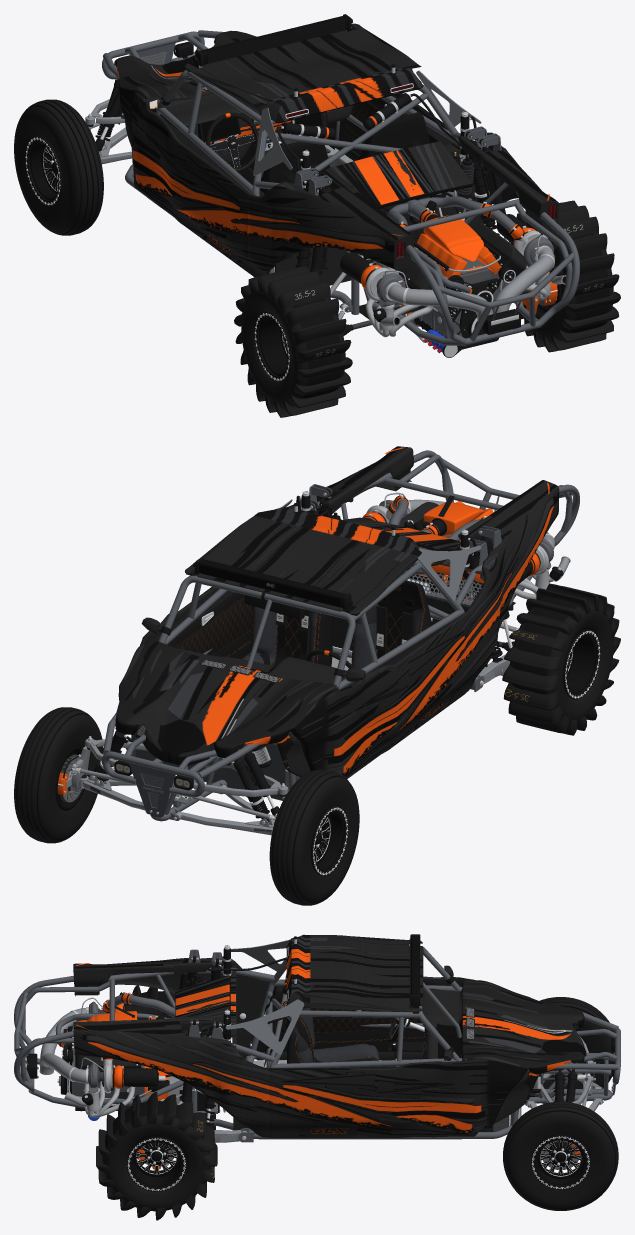
Rendered from sandcar.glb.
3 views of the same model, one above another, from view 1: azimuth 30°, elevation 25°; view 2: azimuth 150°, elevation 25°; view 3: azimuth 270°, elevation 25° (orthographic). The views are drawn at different scales.
Visible parts, largest first — view 1: Chassis_Mesh, Wheel_RL_Mesh, Wheel_FL_Mesh, Wheel_RR_Mesh, LightBar, SteeringWheel_Mesh, Shock_RR_2_Body; view 2: Chassis_Mesh, Wheel_RL_Mesh, Wheel_FL_Mesh, Wheel_FR_Mesh, LightBar, Link_FL_Lower_0, Upright_FR, Link_FR_Lower_0, Link_FL_Upper_0; view 3: Chassis_Mesh, Wheel_RR_Mesh, Wheel_FR_Mesh, Wheel_FL_Mesh, LightBar, Wheel_RL_Mesh.
Boxes of the visible parts, left/top/right/bottom form: Chassis_Mesh: left=102, top=18, right=579, bottom=357; Wheel_RL_Mesh: left=234, top=266, right=352, bottom=417; Wheel_FL_Mesh: left=14, top=99, right=103, bottom=235; Wheel_RR_Mesh: left=504, top=200, right=620, bottom=352; LightBar: left=195, top=14, right=351, bottom=66; SteeringWheel_Mesh: left=206, top=112, right=258, bottom=172; Shock_RR_2_Body: left=476, top=138, right=505, bottom=226; Chassis_Mesh: left=102, top=446, right=579, bottom=821; Wheel_RL_Mesh: left=502, top=583, right=620, bottom=735; Wheel_FL_Mesh: left=269, top=769, right=359, bottom=905; Wheel_FR_Mesh: left=14, top=707, right=103, bottom=843; LightBar: left=195, top=557, right=351, bottom=609; Link_FL_Lower_0: left=174, top=811, right=274, bottom=835; Upright_FR: left=57, top=746, right=90, bottom=795; Link_FR_Lower_0: left=79, top=775, right=148, bottom=814; Link_FL_Upper_0: left=193, top=782, right=288, bottom=796; Chassis_Mesh: left=14, top=934, right=620, bottom=1142; Wheel_RR_Mesh: left=96, top=1091, right=217, bottom=1220; Wheel_FR_Mesh: left=503, top=1101, right=618, bottom=1210; Wheel_FL_Mesh: left=530, top=997, right=614, bottom=1103; LightBar: left=409, top=934, right=420, bottom=1005; Wheel_RL_Mesh: left=119, top=985, right=175, bottom=1018.
Size of the model in its own units: 2.3 by 1.63 by 4.51.
Materials: 94 (39 with a texture image).
